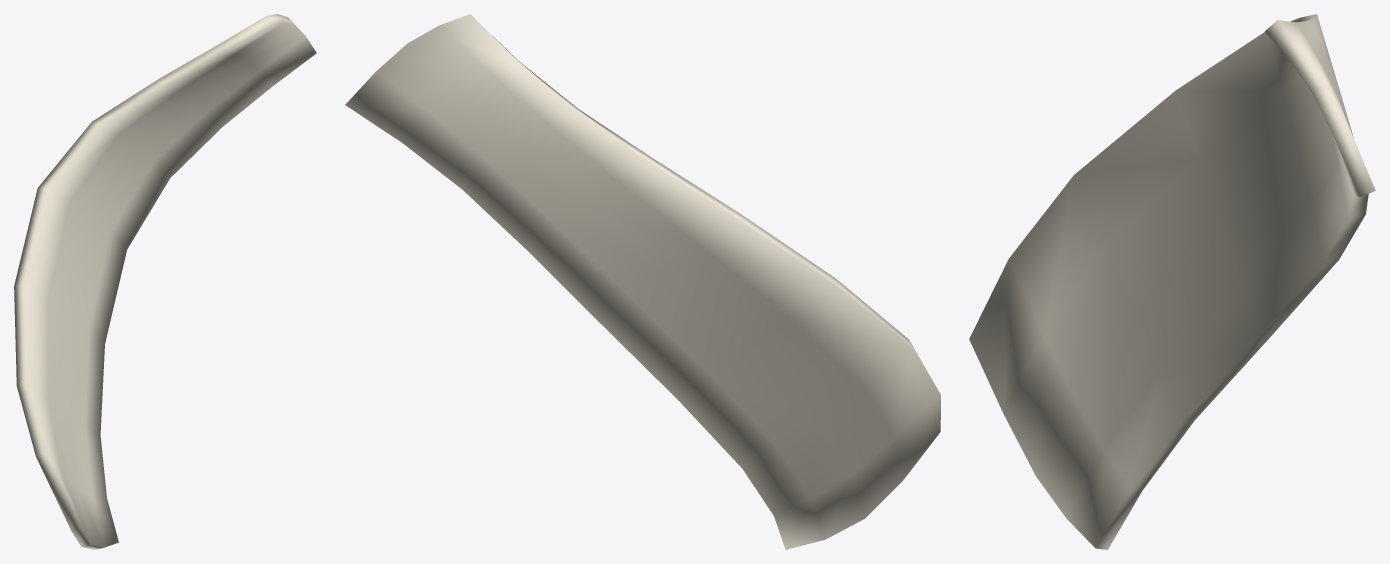
3 renders of one model, left to right at view 1: azimuth 30°, elevation 25°; view 2: azimuth 150°, elevation 25°; view 3: azimuth 270°, elevation 25°, orthographic. The views are drawn at different scales.
Visible parts, largest first — view 1: ZA_2a6faaa2aac0bdb9; view 2: ZA_2a6faaa2aac0bdb9; view 3: ZA_2a6faaa2aac0bdb9.
Boxes of the visible parts, <box> form: ZA_2a6faaa2aac0bdb9: <box>14,14,316,549</box>; ZA_2a6faaa2aac0bdb9: <box>345,14,940,549</box>; ZA_2a6faaa2aac0bdb9: <box>969,14,1375,549</box>.
Bounding box in the file's own units: 0.0204 × 0.0219 × 0.0117.
